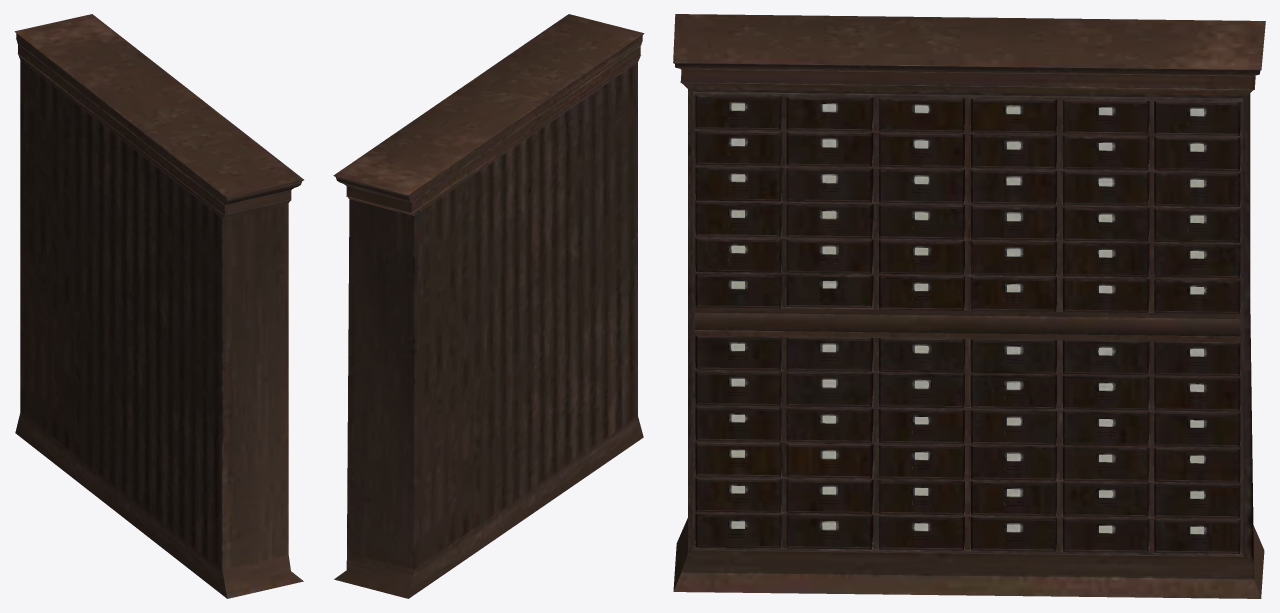
Rendered from office_file_cabinet_prateleira_de_escrit.glb.
3 renders of one model, left to right at view 1: azimuth 30°, elevation 25°; view 2: azimuth 150°, elevation 25°; view 3: azimuth 270°, elevation 25°, orthographic. The views are drawn at different scales.
Visible parts, largest first — view 1: Object_3; view 2: Object_3; view 3: Object_3.
Boxes of the visible parts, x1=… form: Object_3: x1=14, y1=14, x2=303, y2=598; Object_3: x1=333, y1=14, x2=644, y2=598; Object_3: x1=673, y1=14, x2=1265, y2=598.
Bounding box in the file's own units: 103 × 454 × 461.
1 material, 1 textured.
